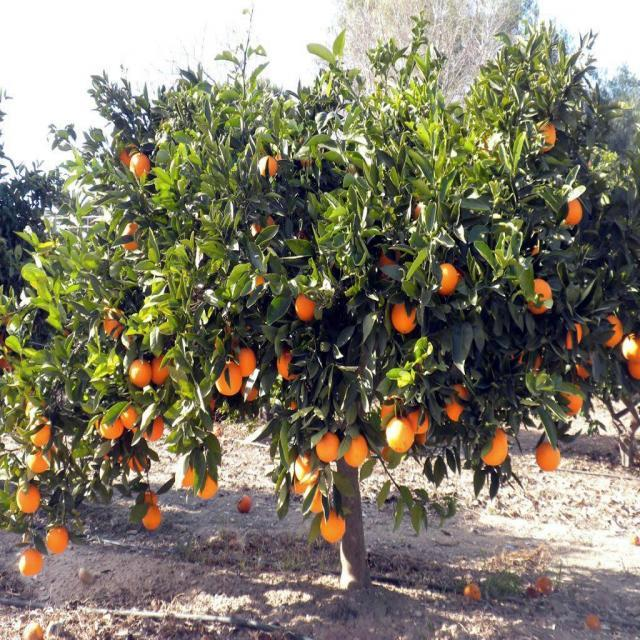Jeruk Sudah Matang: (476, 427, 508, 467), (526, 278, 555, 316), (385, 421, 414, 454), (217, 363, 242, 397), (436, 264, 461, 296), (536, 440, 561, 472), (342, 438, 368, 468), (16, 484, 40, 516), (390, 305, 416, 333), (127, 150, 151, 180), (562, 199, 586, 229), (320, 517, 345, 544), (44, 527, 69, 554), (316, 434, 339, 462), (129, 361, 151, 388), (18, 551, 40, 578), (294, 295, 316, 321), (142, 505, 164, 531), (241, 348, 256, 378), (27, 456, 48, 475)
